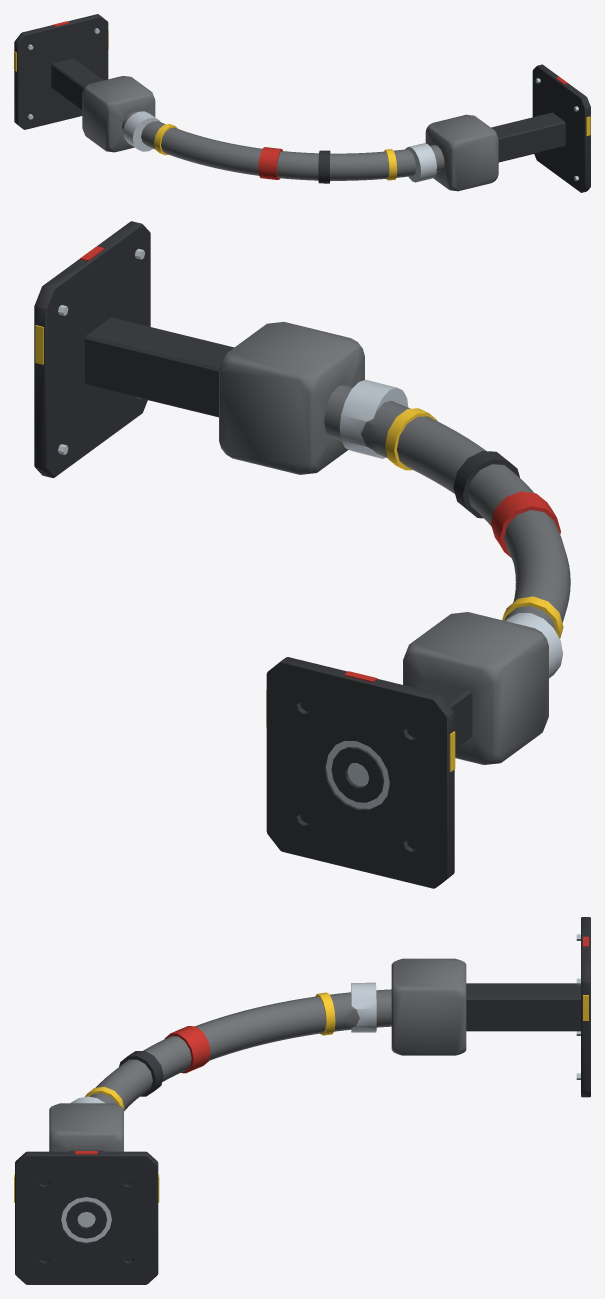
Rendered from R4C_ROD_ARC_SHORT.glb.
The picture shows the model from 3 angles, top to bottom: view 1: azimuth 30°, elevation 25°; view 2: azimuth 150°, elevation 25°; view 3: azimuth 270°, elevation 25°; orthographic projection. The views are drawn at different scales.
Visible parts, largest first — view 1: R4C_ROD_ARC_SHORT; view 2: R4C_ROD_ARC_SHORT; view 3: R4C_ROD_ARC_SHORT.
Part boxes in pixels (box(x1,y1,x2,y2)): R4C_ROD_ARC_SHORT: box(14, 14, 590, 192); R4C_ROD_ARC_SHORT: box(34, 221, 570, 888); R4C_ROD_ARC_SHORT: box(14, 917, 590, 1284).
Size of the model in its own units: 0.9266 by 0.2316 by 0.9266.
